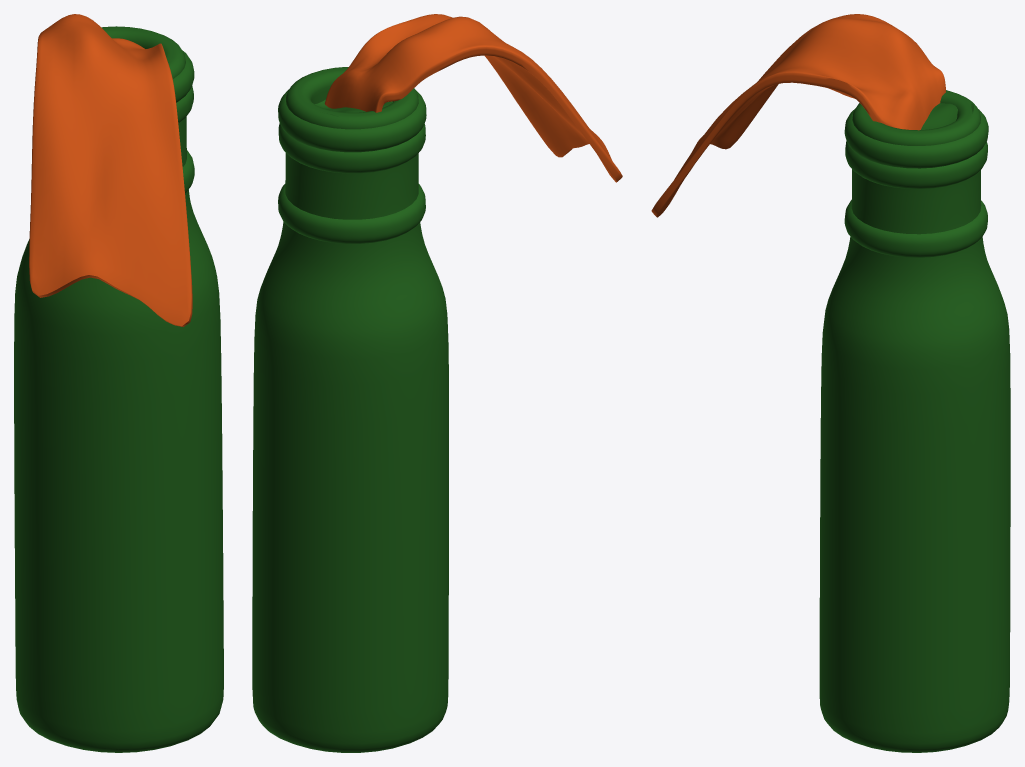
The picture shows the model from 3 angles, left to right: view 1: azimuth 30°, elevation 25°; view 2: azimuth 150°, elevation 25°; view 3: azimuth 270°, elevation 25°; orthographic projection. The views are drawn at different scales.
Parts seen in each view (by area): view 1: tool_001; view 2: tool_001; view 3: tool_001.
Boxes of the visible parts, x1,y1,x2,y2 form: tool_001: (14,14,223,752); tool_001: (252,14,622,752); tool_001: (651,14,1010,752).
Bounding box in the file's own units: 21.39 × 26.14 × 53.5.
